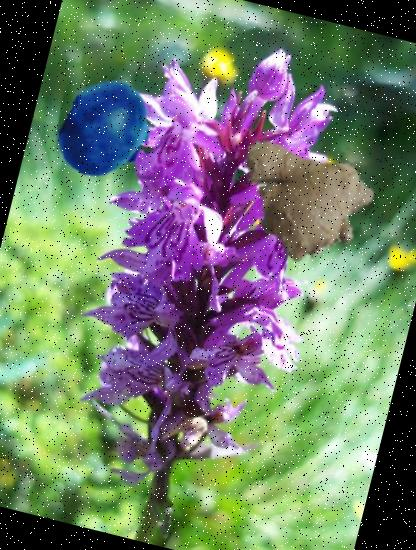Ginger: (219, 106, 390, 277)
Huckleberry: (44, 68, 168, 192)
